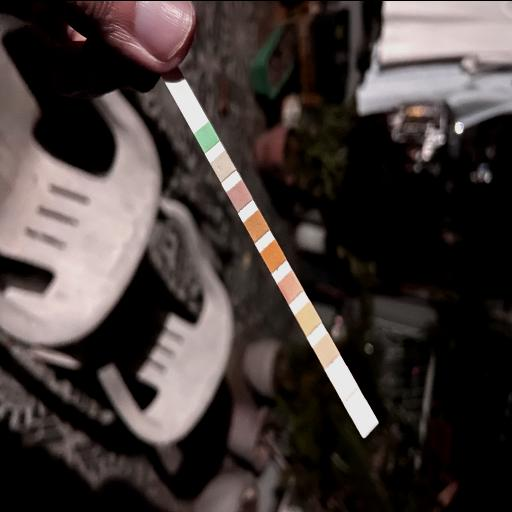Bilirubin: (217, 156, 229, 176)
Blood: (266, 244, 278, 266)
Glucose: (200, 127, 212, 145)
Ketone: (234, 184, 246, 204)
Leukocytes: (358, 406, 370, 430)
Nitrite: (338, 373, 350, 395)
Protein: (301, 307, 313, 327)
SpGravity: (250, 215, 262, 235)
Urobilinogen: (320, 338, 332, 360)
pH: (285, 274, 295, 298)
strip: (165, 68, 378, 438)
